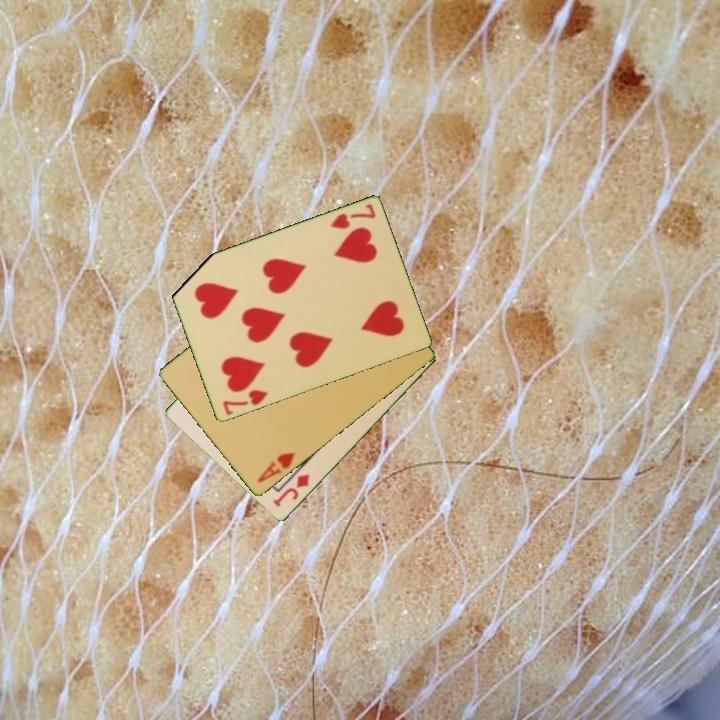7h: (219, 386, 271, 419), (326, 201, 378, 232)
Ah: (254, 449, 298, 486)
Jd: (269, 471, 313, 510)
